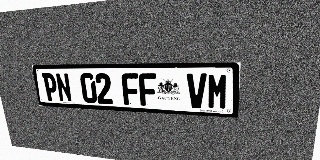0: (79, 73, 98, 103)
2: (94, 73, 113, 104)
F: (121, 73, 140, 106), (138, 73, 157, 106)
M: (207, 73, 229, 110)
N: (55, 73, 73, 102)
P: (42, 73, 59, 102)
V: (187, 73, 207, 109)
